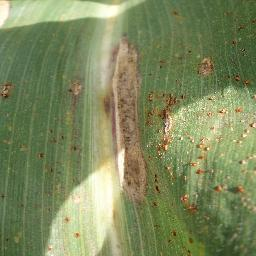Corn_Blight: (97, 33, 154, 209), (156, 88, 180, 158), (95, 210, 131, 240), (180, 89, 196, 155), (217, 122, 256, 145), (64, 111, 80, 162), (160, 47, 193, 71), (154, 166, 173, 207), (48, 182, 85, 203), (65, 73, 84, 111), (193, 51, 217, 80), (181, 190, 202, 217), (0, 77, 20, 103), (235, 151, 256, 175), (226, 70, 252, 89), (212, 182, 246, 196), (185, 159, 210, 177), (201, 107, 245, 117), (0, 121, 13, 149), (165, 225, 180, 249), (184, 236, 198, 256), (50, 125, 64, 144), (197, 136, 211, 154), (5, 235, 21, 249), (229, 39, 249, 49), (201, 90, 215, 103), (62, 212, 74, 225), (46, 162, 57, 176), (231, 23, 245, 34), (19, 141, 31, 152), (31, 151, 45, 160), (47, 242, 58, 253), (17, 202, 29, 212), (69, 231, 83, 238), (222, 9, 237, 15), (0, 190, 6, 204), (171, 7, 181, 15)
